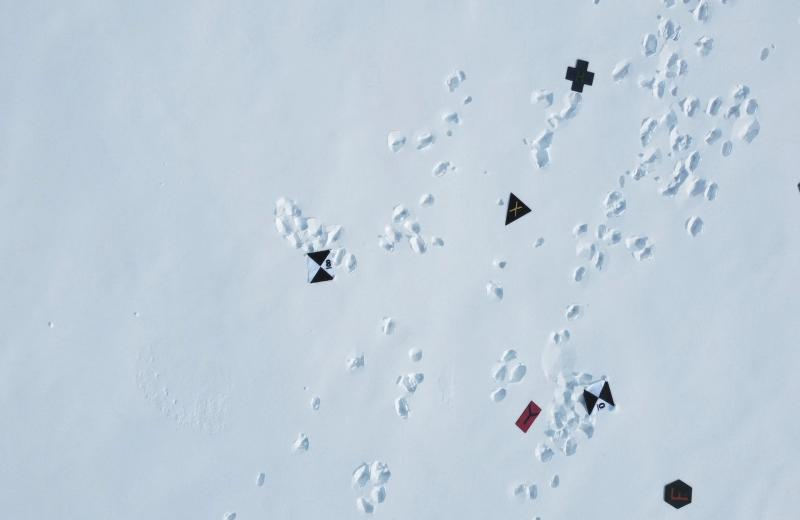Cross: (564, 56, 596, 96)
Hexagon: (660, 477, 694, 511)
Rectangle: (514, 398, 544, 434)
Triangle: (501, 191, 532, 228)
